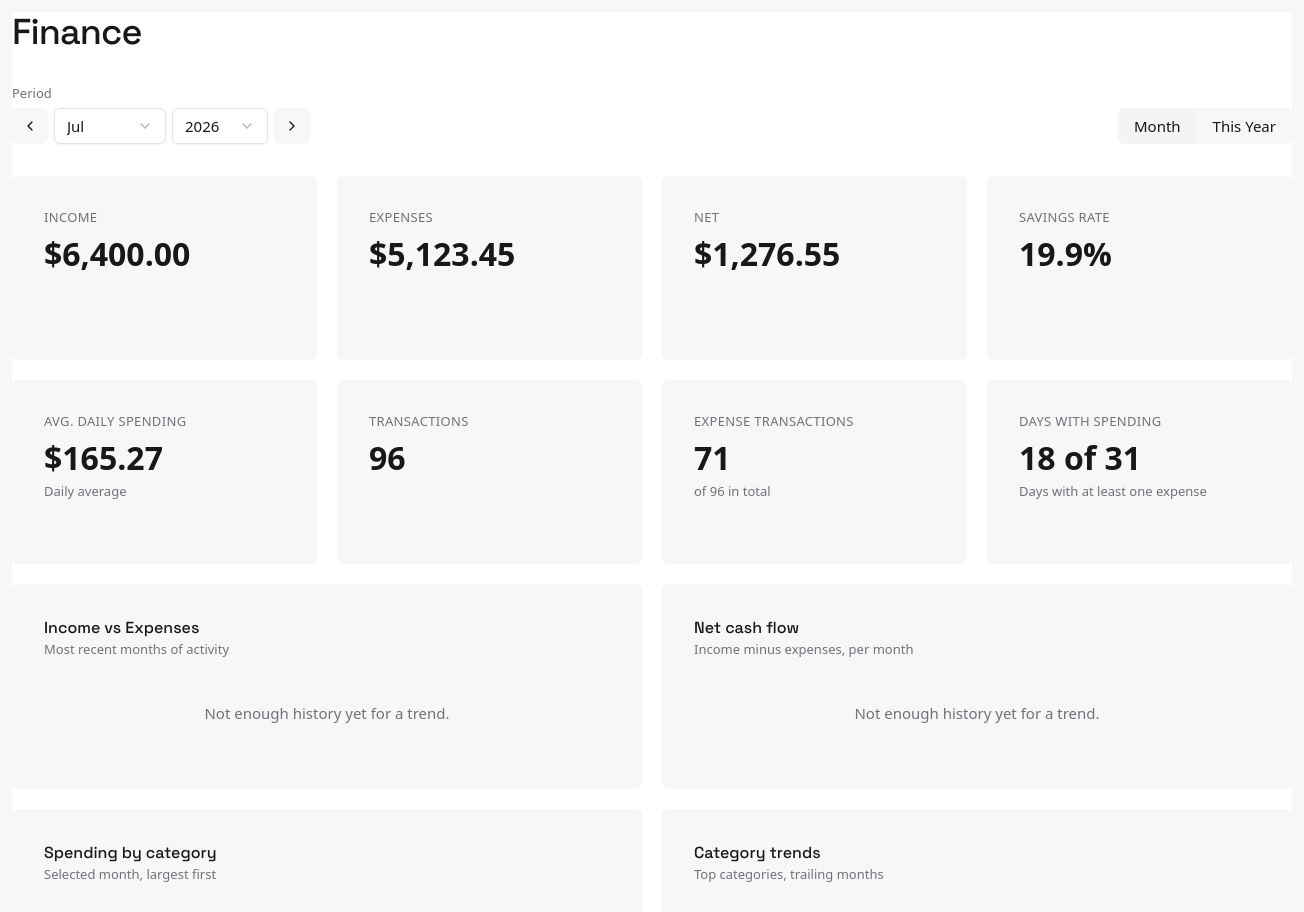
FinanceDashboard — year view › shows YTD figures when the year has covered months
This screenshot has width=1304, height=912.
Click the button "This Year" at coordinates (1244, 126), box [1197,108,1292,144]
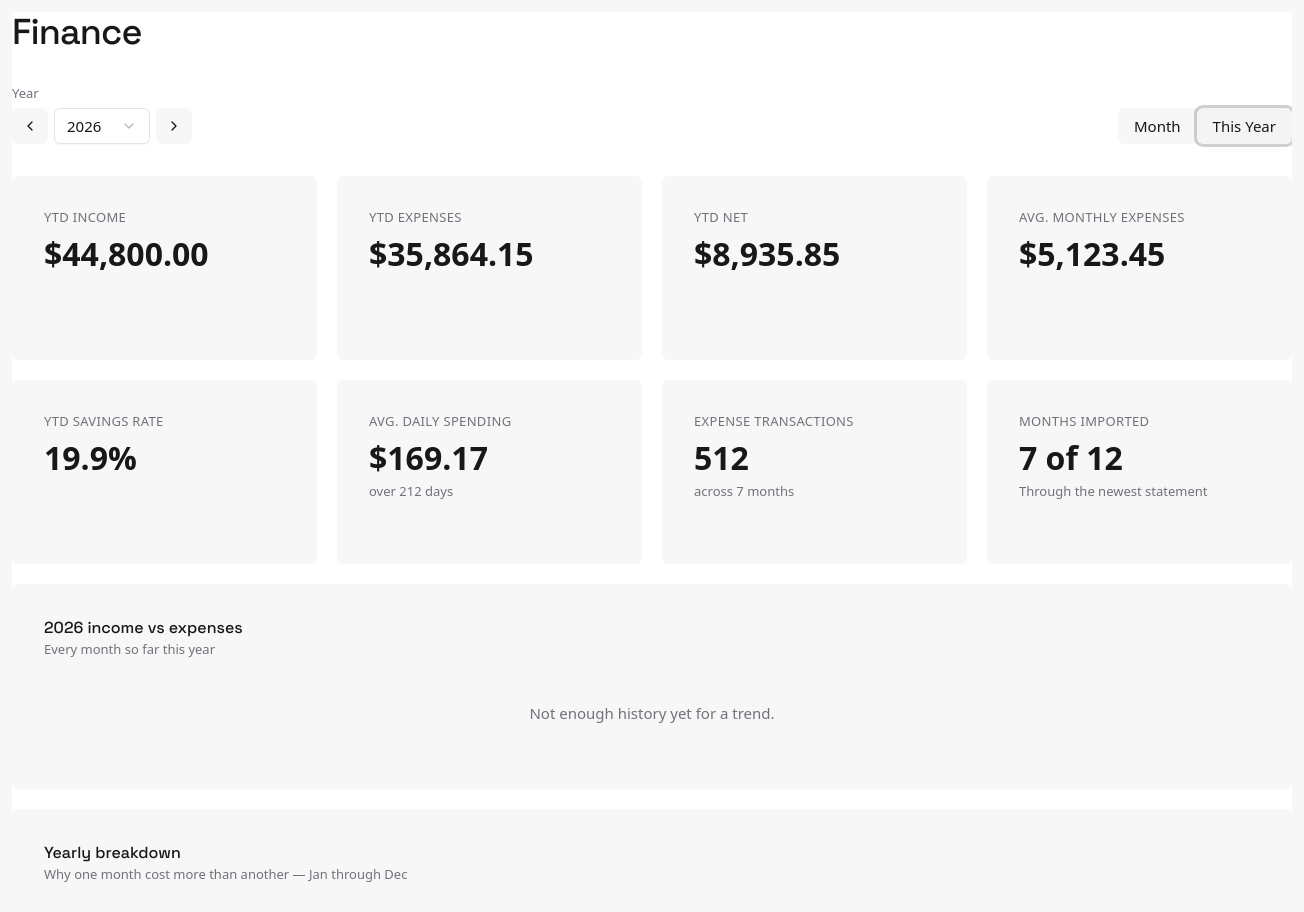
Expected: the text "YTD Income" is shown, [44,208,126,226]
Expected: the text "$44,800.00" is shown, [44,232,209,275]
